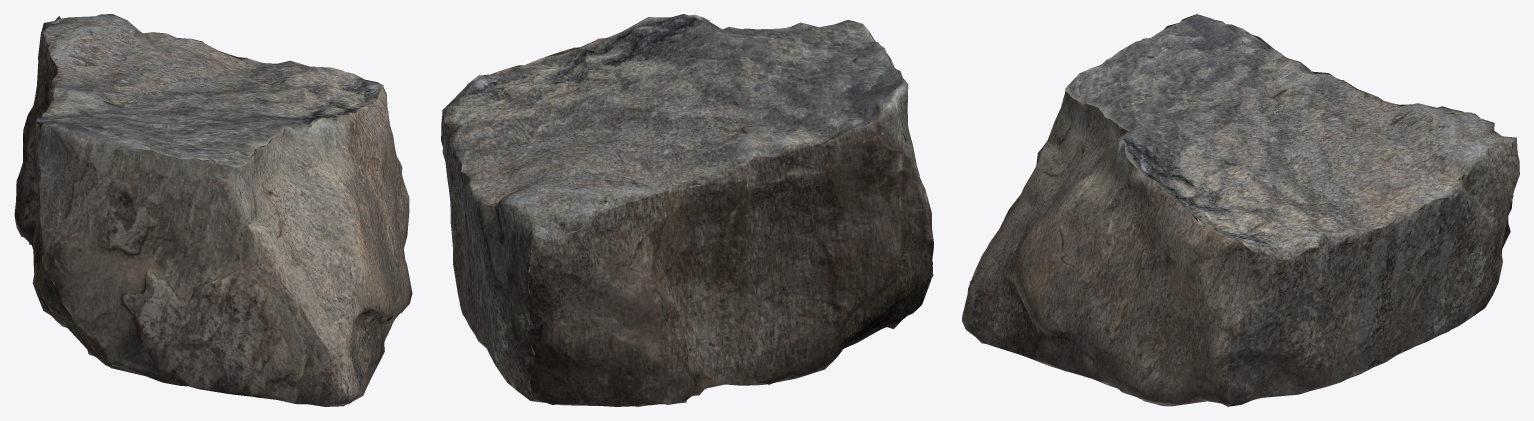
Rendered from granite_boulder_b.gltf.
The picture shows the model from 3 angles, left to right: view 1: azimuth 30°, elevation 25°; view 2: azimuth 150°, elevation 25°; view 3: azimuth 270°, elevation 25°; orthographic projection. The views are drawn at different scales.
Parts seen in each view (by area): view 1: granite_boulder_b; view 2: granite_boulder_b; view 3: granite_boulder_b.
Boxes of the visible parts, bbox=[...] form: granite_boulder_b: bbox=[14, 14, 412, 406]; granite_boulder_b: bbox=[441, 14, 933, 406]; granite_boulder_b: bbox=[962, 14, 1519, 406].
Size of the model in its own units: 2.4 by 1.48 by 3.07.
1 material, 1 textured.
